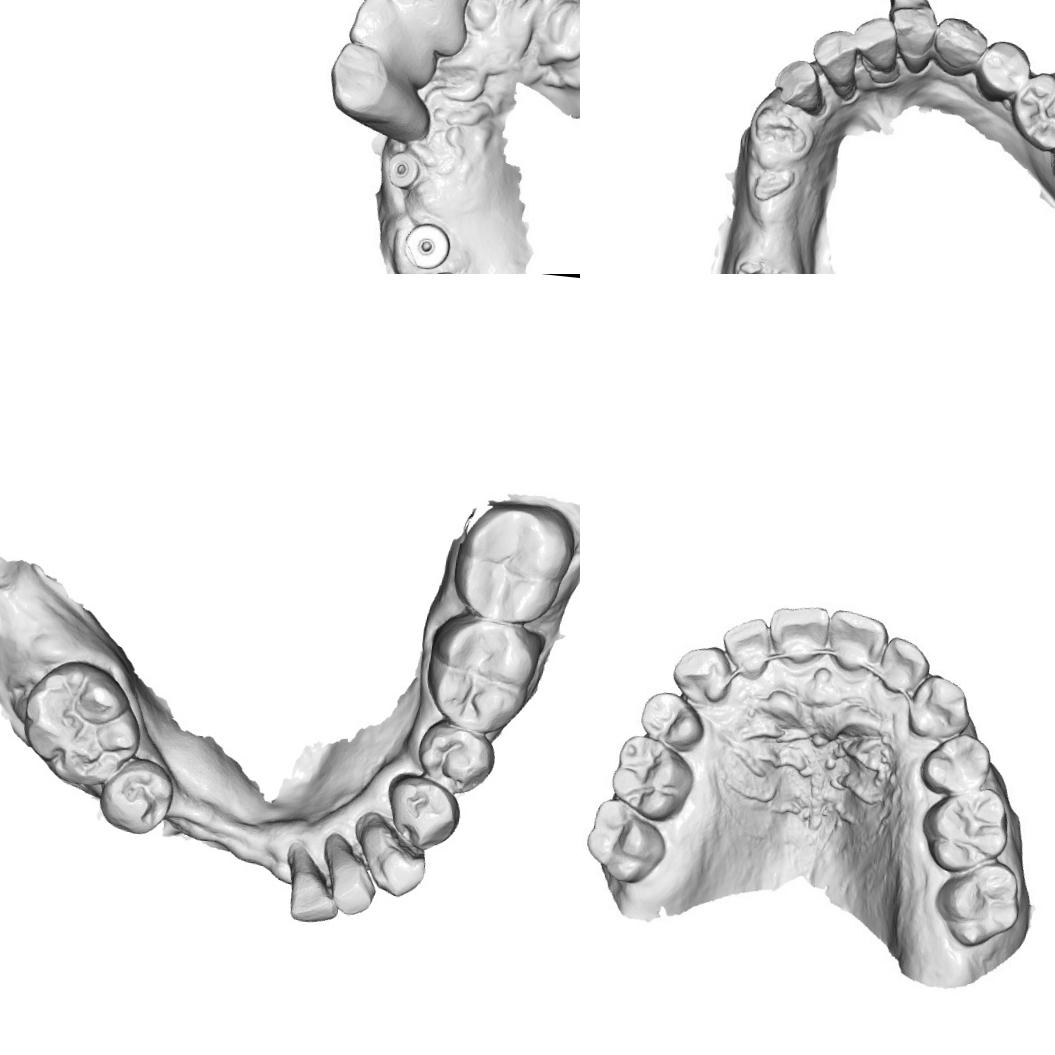canine: (352, 812, 432, 900), (902, 671, 977, 746), (666, 640, 735, 710), (934, 13, 988, 70)
implant: (401, 219, 453, 274), (381, 148, 426, 196)
incisor: (328, 41, 438, 142), (345, 0, 439, 92), (372, 0, 476, 52), (763, 600, 832, 675), (822, 606, 892, 678), (277, 852, 342, 928), (321, 842, 381, 920), (716, 612, 774, 682), (876, 634, 936, 700), (811, 29, 865, 102), (885, 0, 942, 69), (776, 58, 826, 115), (855, 14, 899, 76)
molar: (13, 656, 150, 794), (452, 498, 578, 626), (421, 611, 543, 738), (915, 780, 1014, 880), (928, 854, 1026, 954), (606, 730, 698, 826), (582, 794, 672, 889)
premolar: (94, 751, 180, 838), (383, 770, 465, 852), (414, 718, 499, 796), (917, 728, 996, 800), (636, 687, 708, 754), (1013, 74, 1055, 149), (979, 42, 1028, 96)
